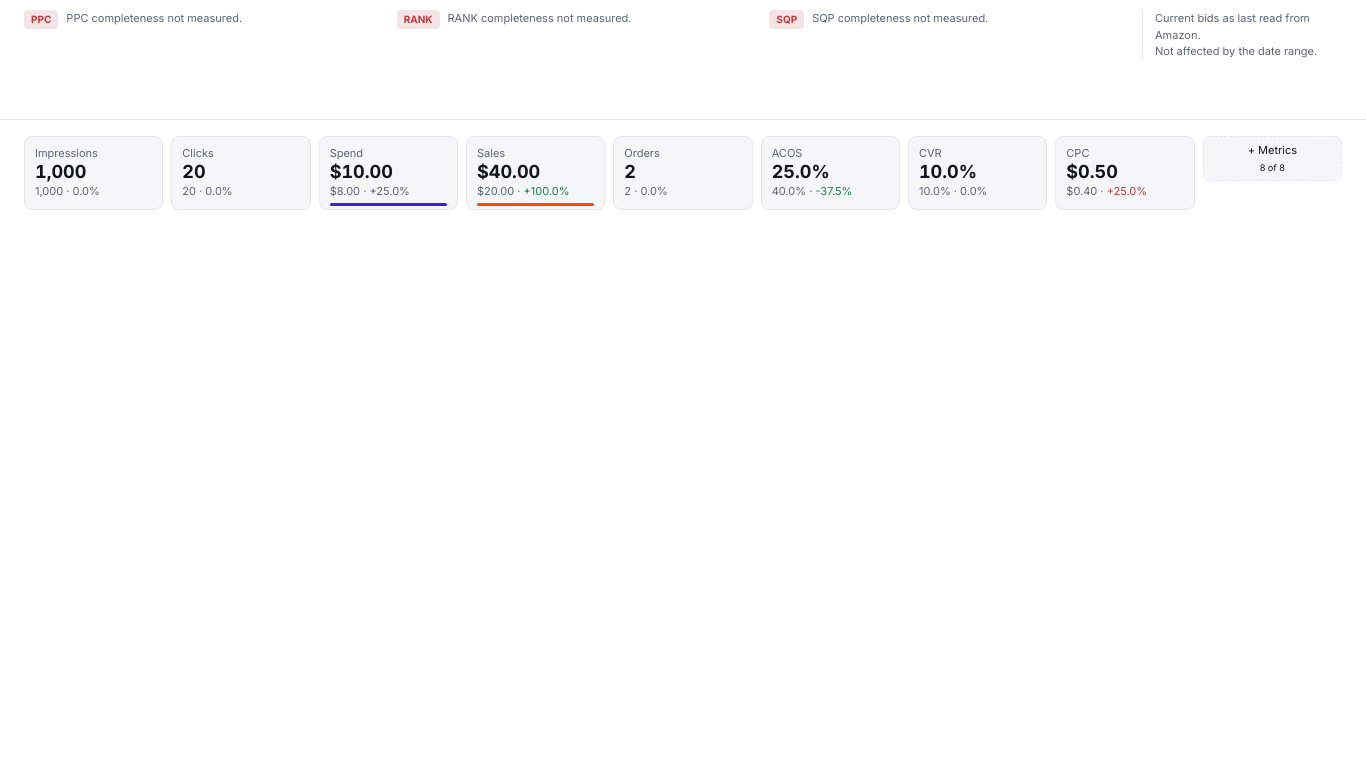
Scenario: summary metric picker › bounds the choice to eight catalogue metrics, keeps one, prunes charted series and resets to the default
The image size is (1366, 768).
Step 1. Click the button with test id "grid-summary-picker-trigger" → (1272, 158), box [1203, 136, 1342, 181]
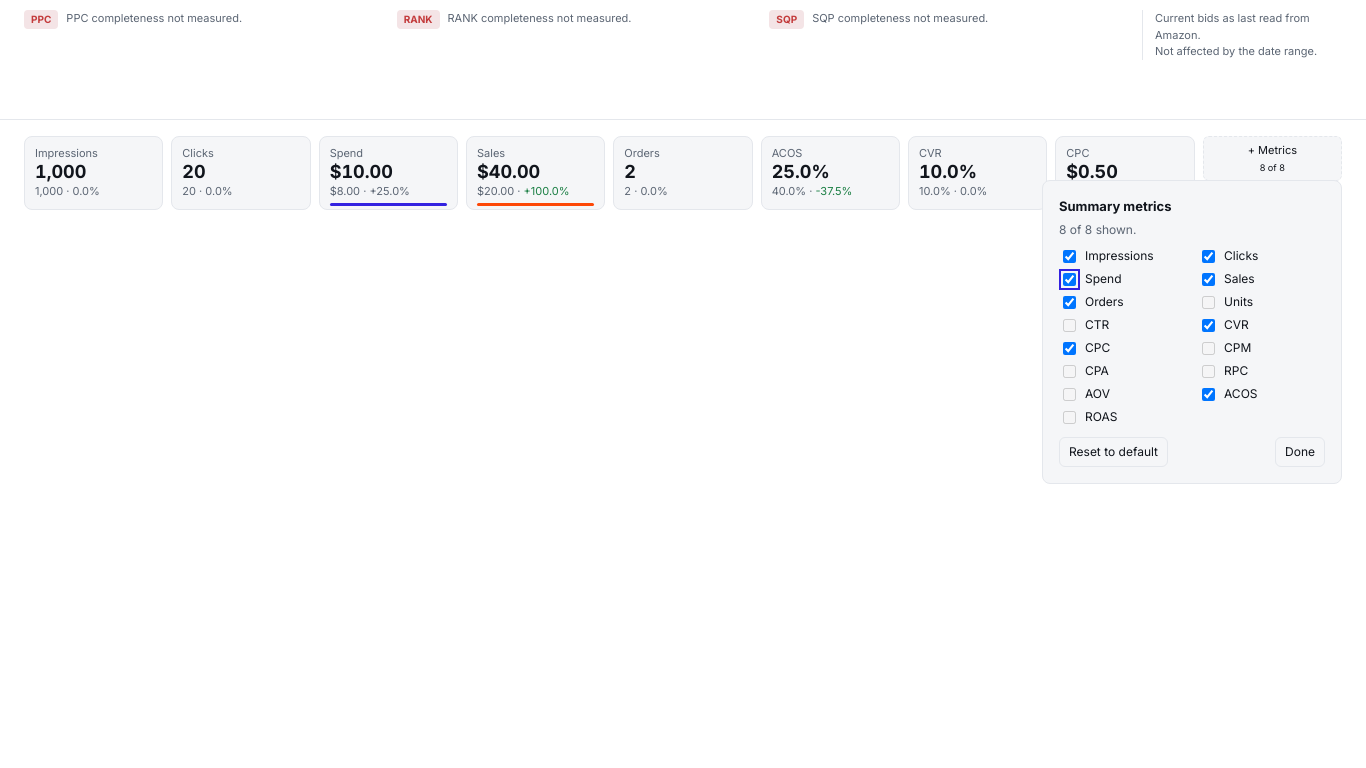
Now the number of checkboxes is 15
Now the message reads "8 of 8 shown.", box [1059, 222, 1136, 236]
Now the button "Reset to default" is disabled, box [1059, 436, 1168, 466]
Step 2. Click the checkbox labelled "Spend" → (1070, 279), box [1063, 272, 1076, 286]
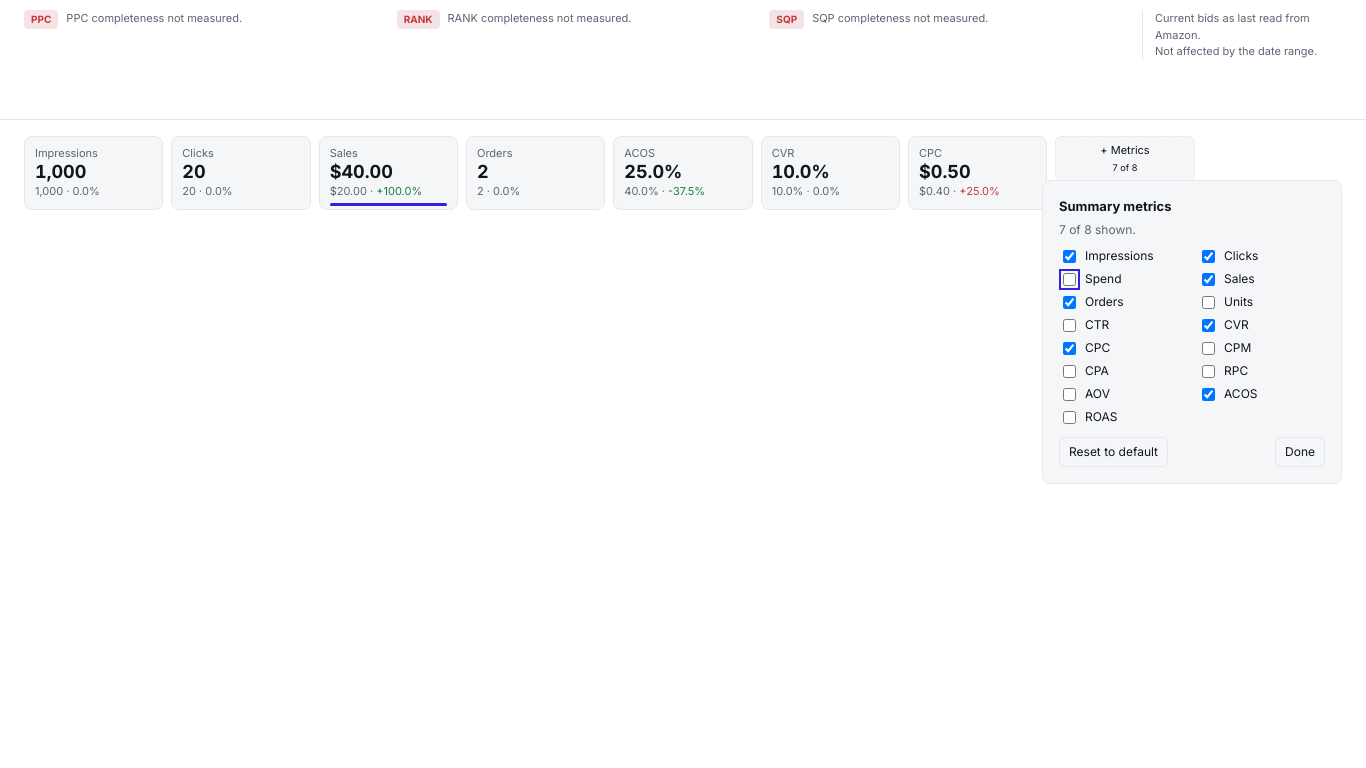
Now the button with test id "grid-summary-picker-trigger" reads "+ Metrics7 of 8", box [1055, 136, 1195, 181]
Step 3. Click the checkbox labelled "ROAS" → (1070, 417), box [1063, 410, 1076, 424]
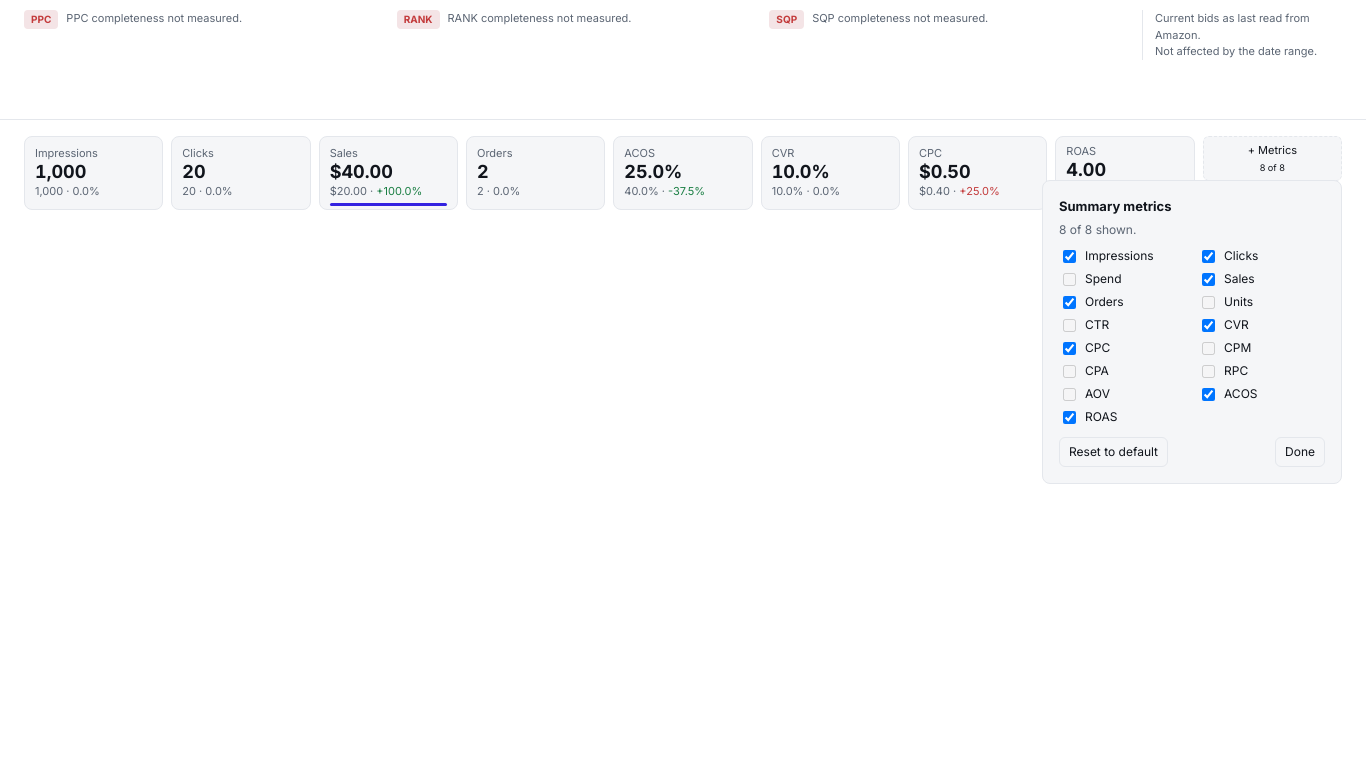
Step 4. Click the button "Reset to default" → (1114, 452), box [1059, 436, 1168, 466]
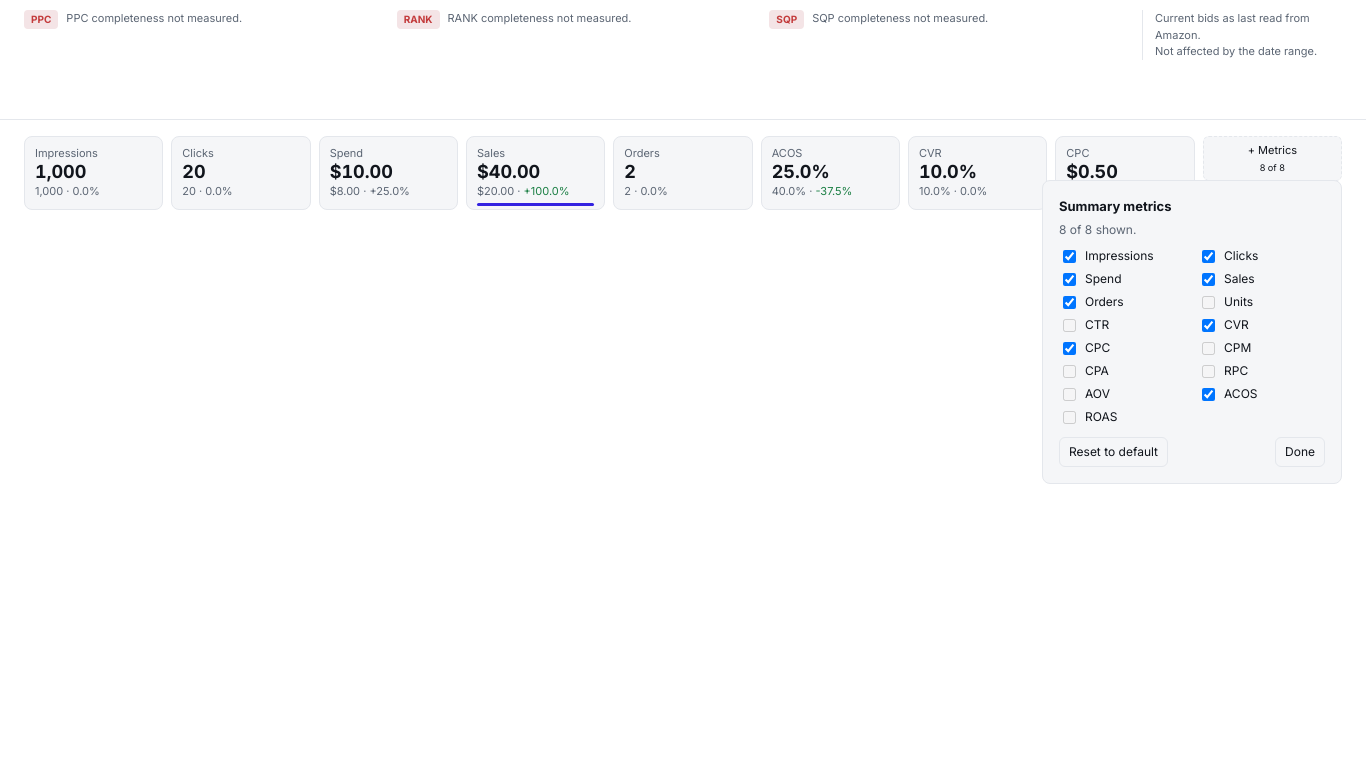
Step 5. Press Escape in the dialog "Summary metrics", box [1042, 180, 1342, 484]
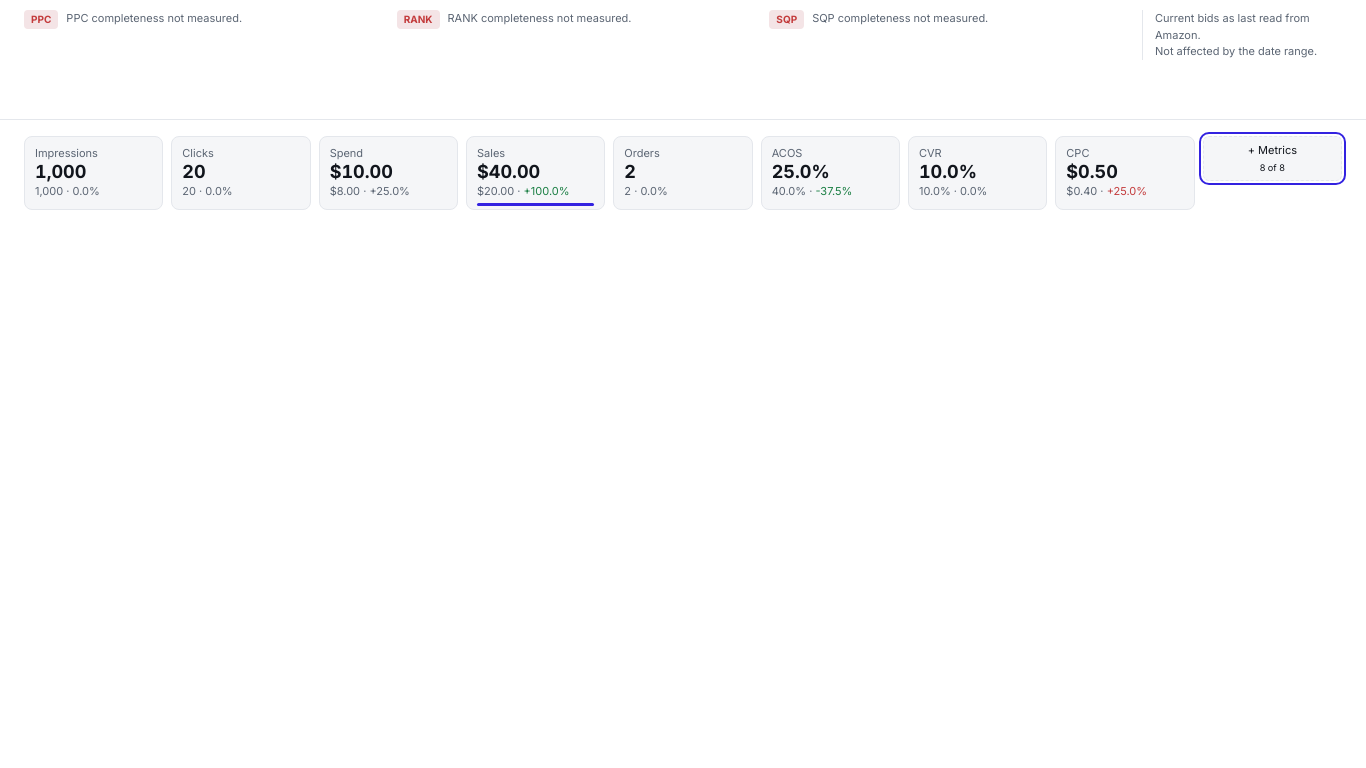
Now the text "Summary metrics" is gone
